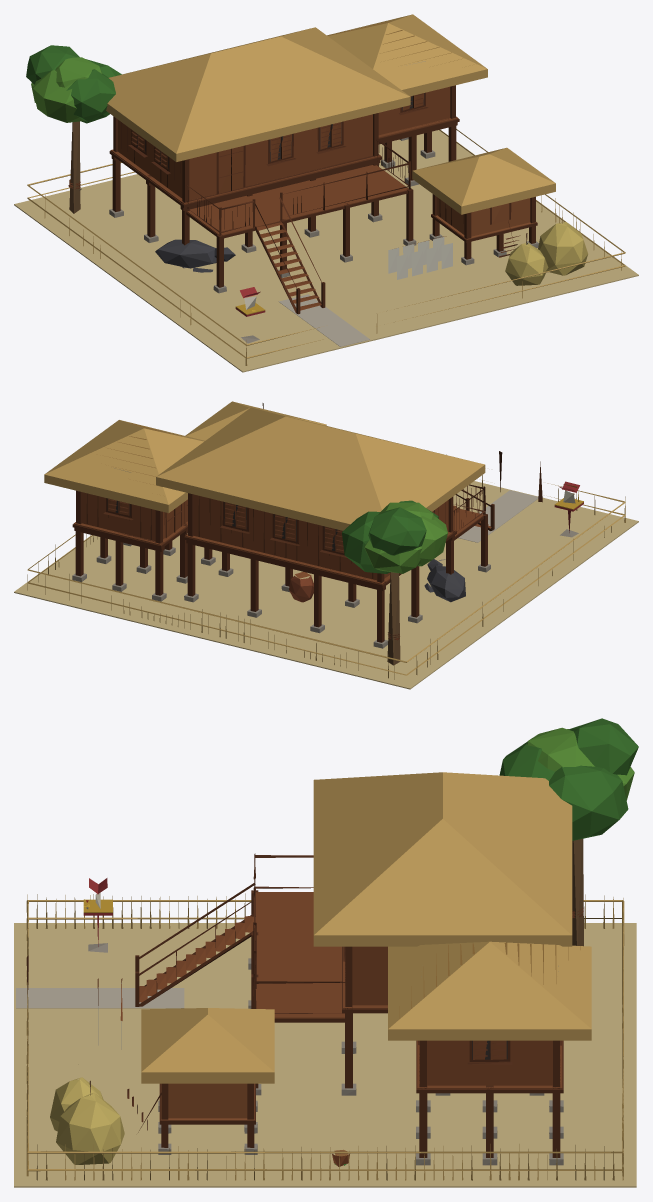
File: home_4.glb
3 renders of one model, top to bottom at view 1: azimuth 30°, elevation 25°; view 2: azimuth 150°, elevation 25°; view 3: azimuth 270°, elevation 25°, orthographic. The views are drawn at different scales.
Parts seen in each view (by area): view 1: body; view 2: body; view 3: body.
Part boxes in pixels (x1,y1,x2,y2): body: (14,14,638,372); body: (14,401,638,689); body: (14,718,638,1187).
Size of the model in its own units: 16.06 by 6.88 by 15.96.
